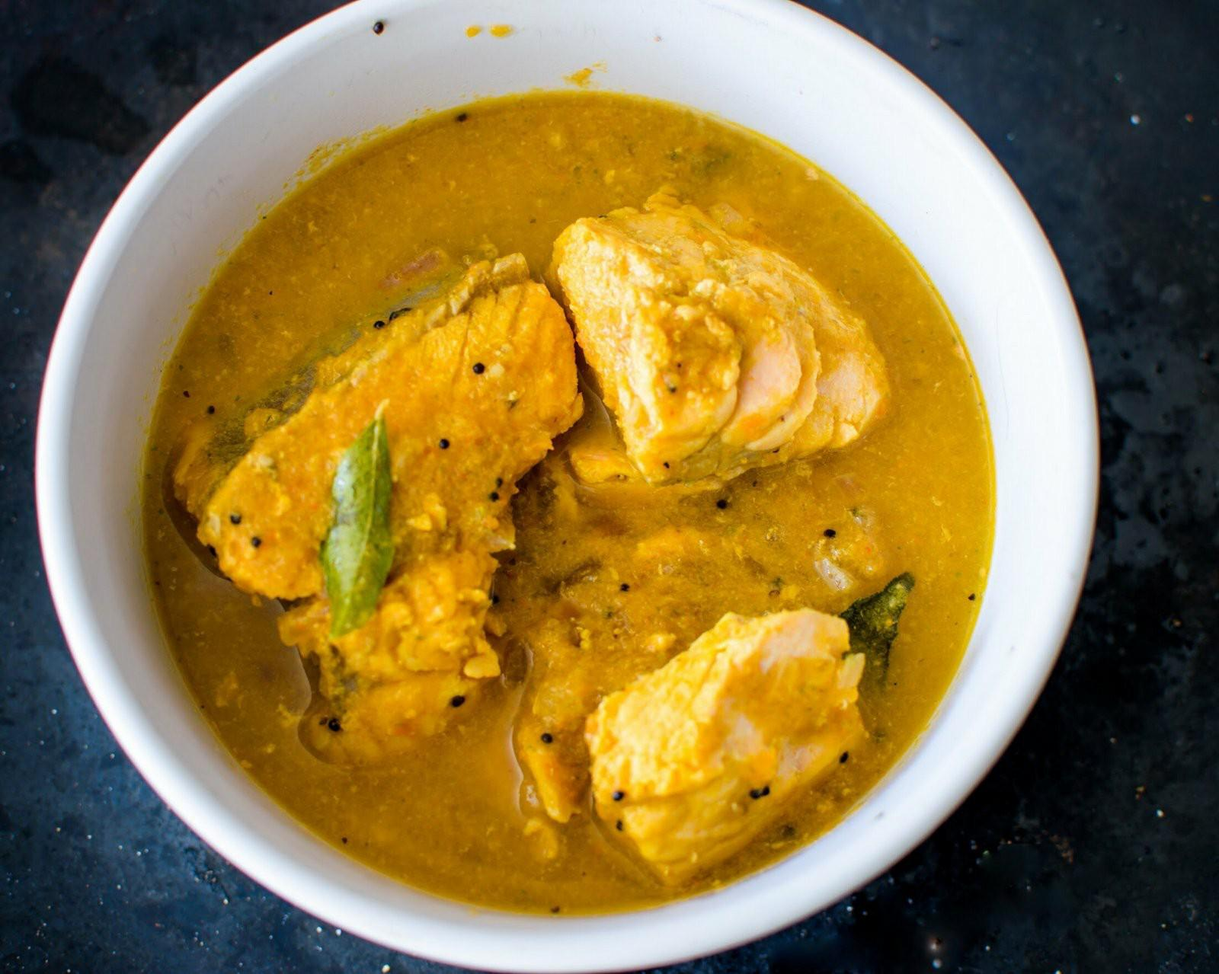FishCurry: (149, 99, 998, 901)
